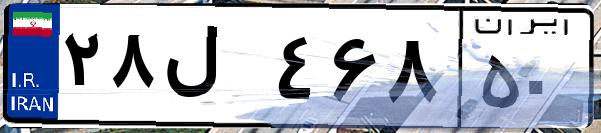0: (525, 38, 570, 115)
2: (57, 26, 110, 100)
4: (270, 28, 330, 110)
5: (475, 38, 525, 113)
6: (330, 28, 385, 110)
8: (385, 28, 445, 110), (110, 28, 158, 98)
ل: (158, 20, 270, 120)
